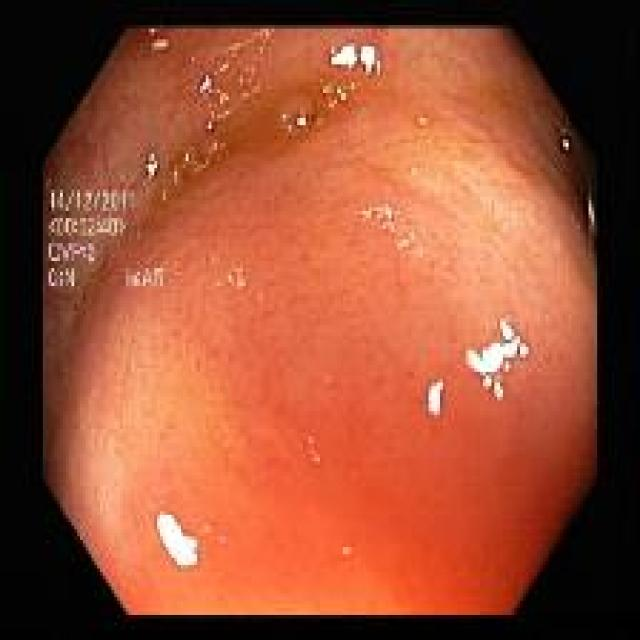ulcerative-colitis: (44, 28, 596, 615)
